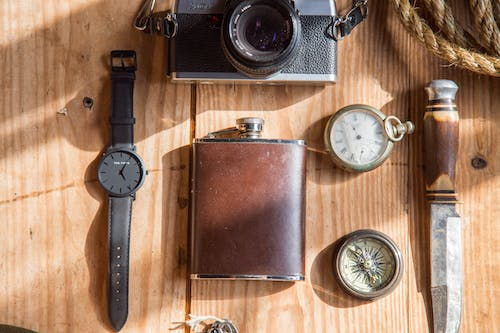knife: (419, 75, 465, 333)
